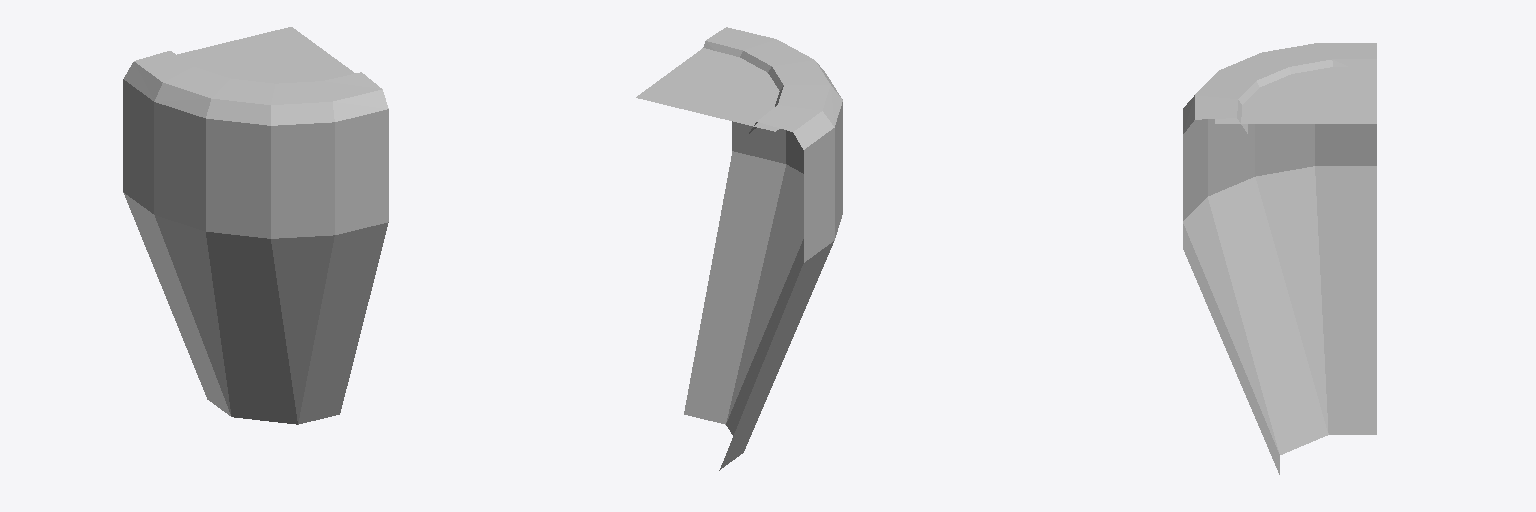
Rendered from wall_corner_convex_b.obj.
The picture shows the model from 3 angles: view 1: azimuth 30°, elevation 25°; view 2: azimuth 150°, elevation 25°; view 3: azimuth 270°, elevation 25°; orthographic projection.
Parts seen in each view (by area): view 1: wall_corner_convex_b; view 2: wall_corner_convex_b; view 3: wall_corner_convex_b.
Part boxes in pixels (left/top/right/bottom): wall_corner_convex_b: left=123, top=27, right=388, bottom=424; wall_corner_convex_b: left=636, top=27, right=842, bottom=470; wall_corner_convex_b: left=1183, top=43, right=1376, bottom=474.
Size of the model in its own units: 200 by 406 by 200.